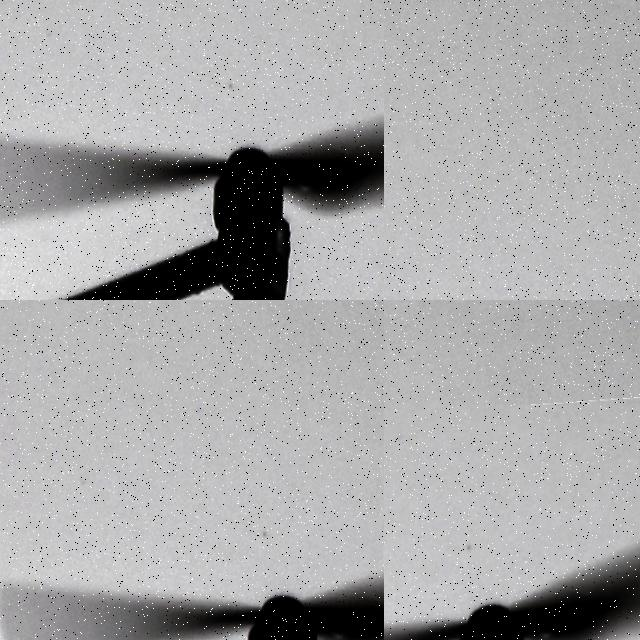drone: (384, 396, 640, 640)
